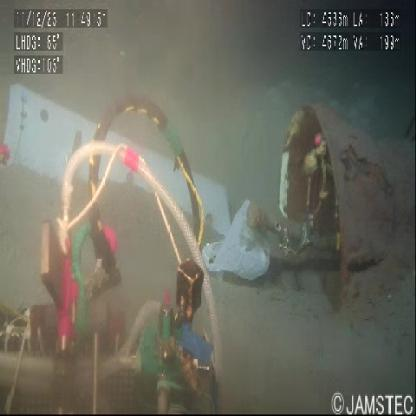Rác: (202, 202, 272, 288)
